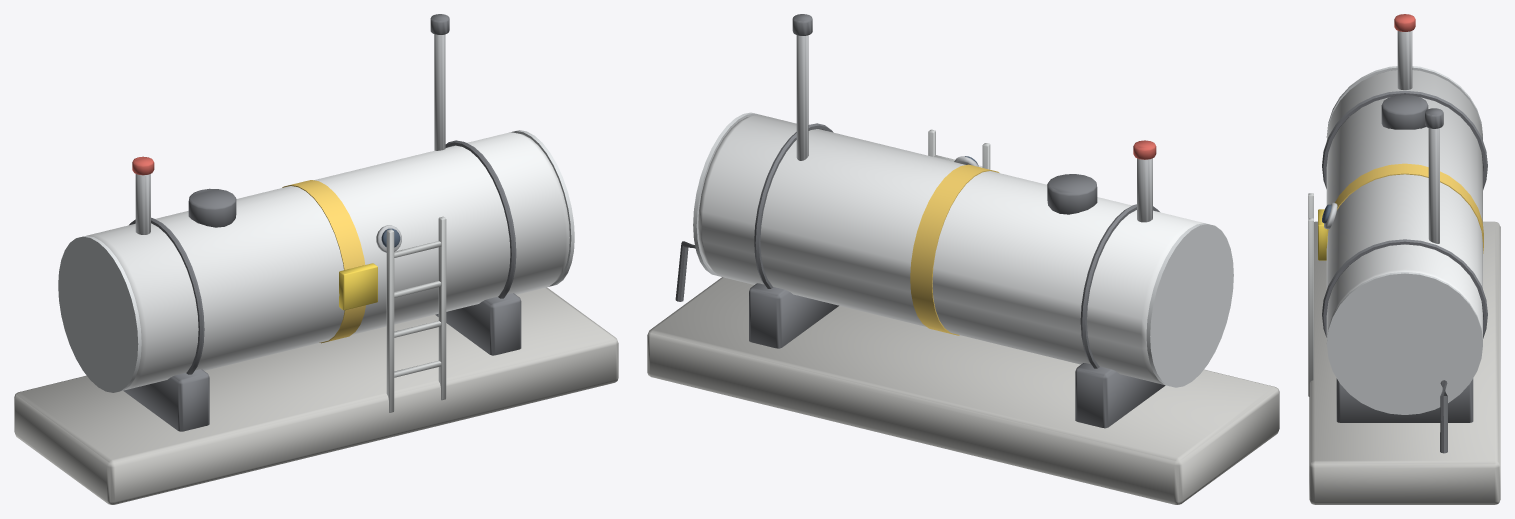
File: diesel_tank.glb
The picture shows the model from 3 angles, left to right: view 1: azimuth 30°, elevation 25°; view 2: azimuth 150°, elevation 25°; view 3: azimuth 270°, elevation 25°; orthographic projection. The views are drawn at different scales.
Visible parts, largest first — view 1: Body; view 2: Body; view 3: Body.
Part boxes in pixels (left/top/right/bottom): Body: left=14, top=14, right=618, bottom=504; Body: left=647, top=14, right=1279, bottom=504; Body: left=1308, top=14, right=1500, bottom=504.
Bounding box in the file's own units: 2.95 × 1.92 × 0.985.
